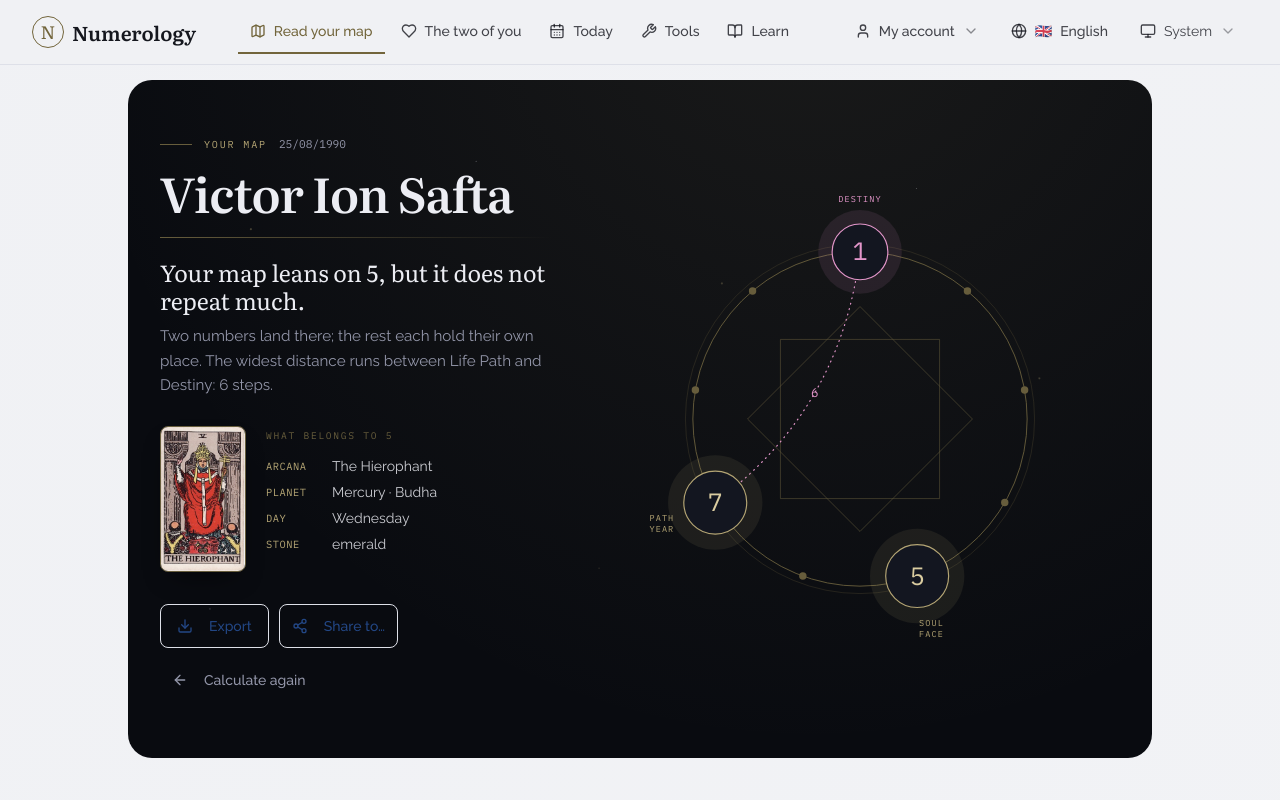
Test: Index, autentificat › „calculează din nou” duce la formular, precompletat
The image size is (1280, 800).
Click the button "Calculate again" at [239, 680], box [160,658,318,702]
(page scrolled)
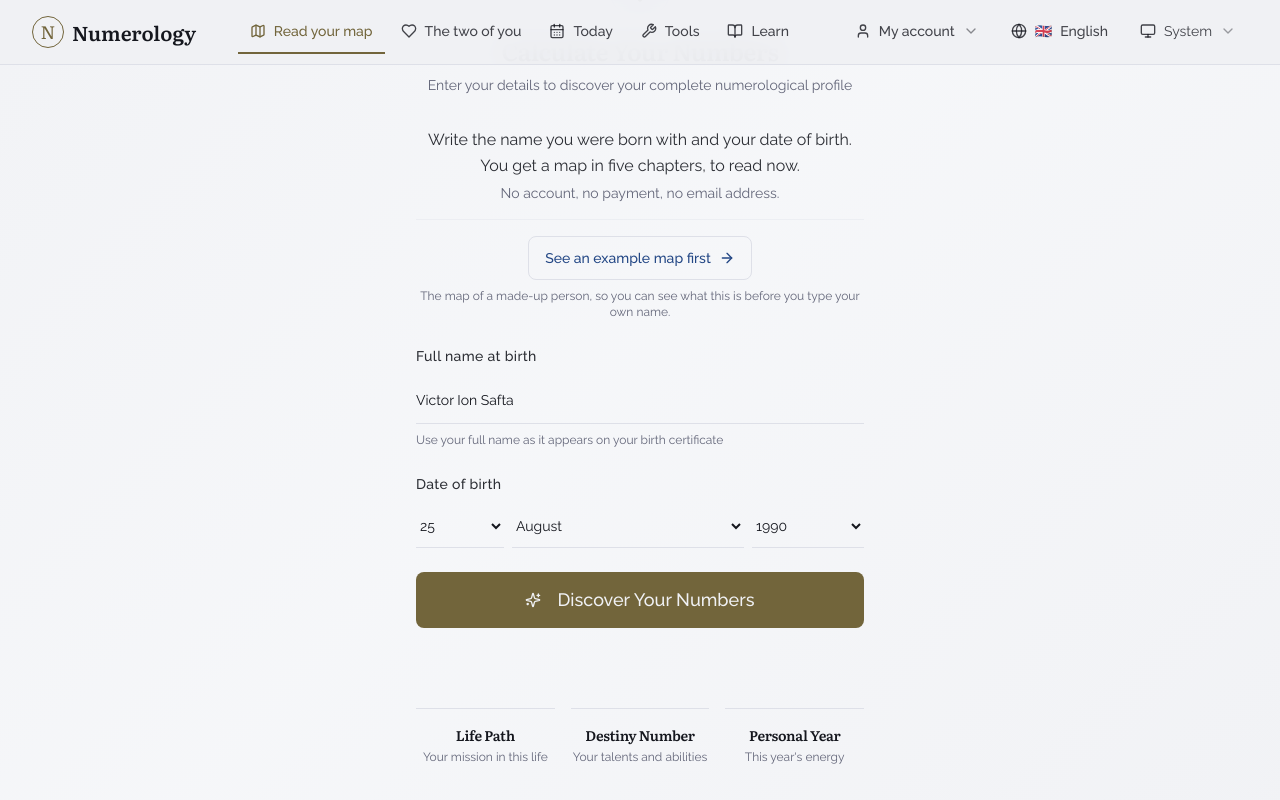
Expected: the field showing "Victor Ion Safta" is shown, [416,376,864,424]
